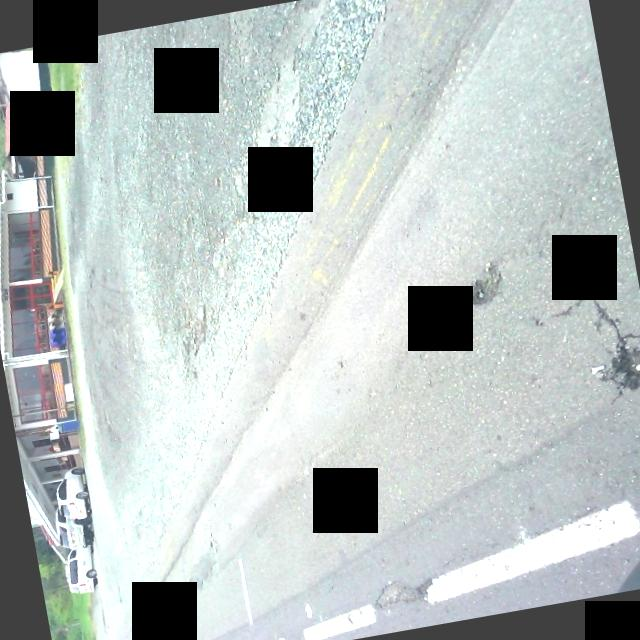DITCH: (0, 0, 640, 640), (31, 0, 640, 640), (66, 0, 640, 640)
